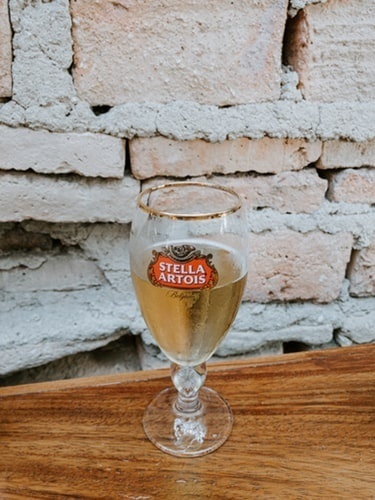whiskey: (137, 182, 243, 453)
